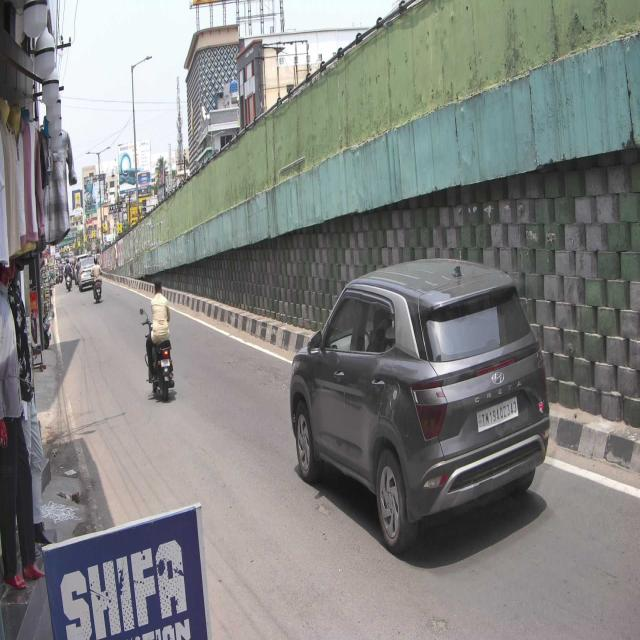single_rider: (139, 276, 175, 402)
